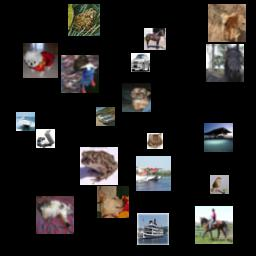airplane: (136, 156, 171, 191), (204, 123, 233, 152)
automobile: (96, 107, 115, 126), (131, 53, 150, 72)
bird: (61, 55, 99, 93), (210, 175, 229, 194)
cat: (36, 196, 74, 234), (147, 133, 163, 149)
dog: (208, 4, 246, 42), (23, 43, 58, 78), (97, 186, 129, 218), (122, 83, 151, 112)
frog: (80, 147, 118, 185), (68, 4, 100, 36)
ship: (137, 213, 169, 245), (16, 112, 35, 131)
truck: (36, 129, 55, 148)
